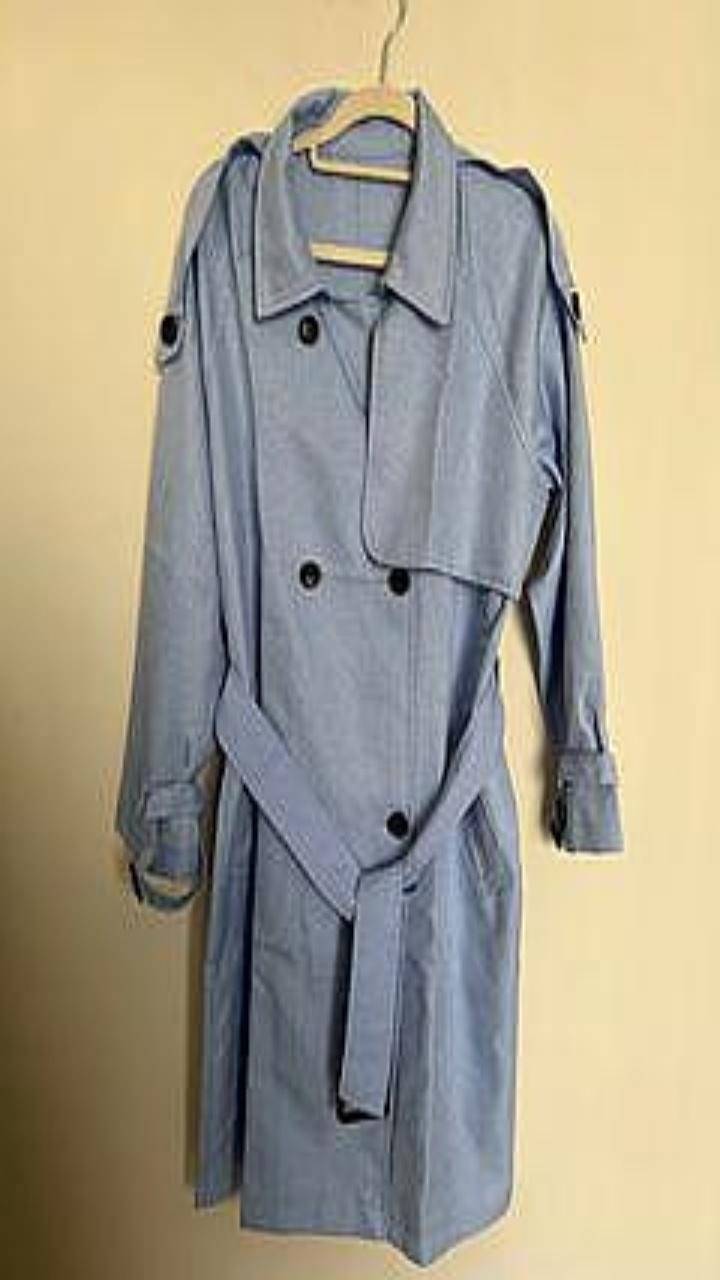Coat: (116, 86, 623, 1264)
